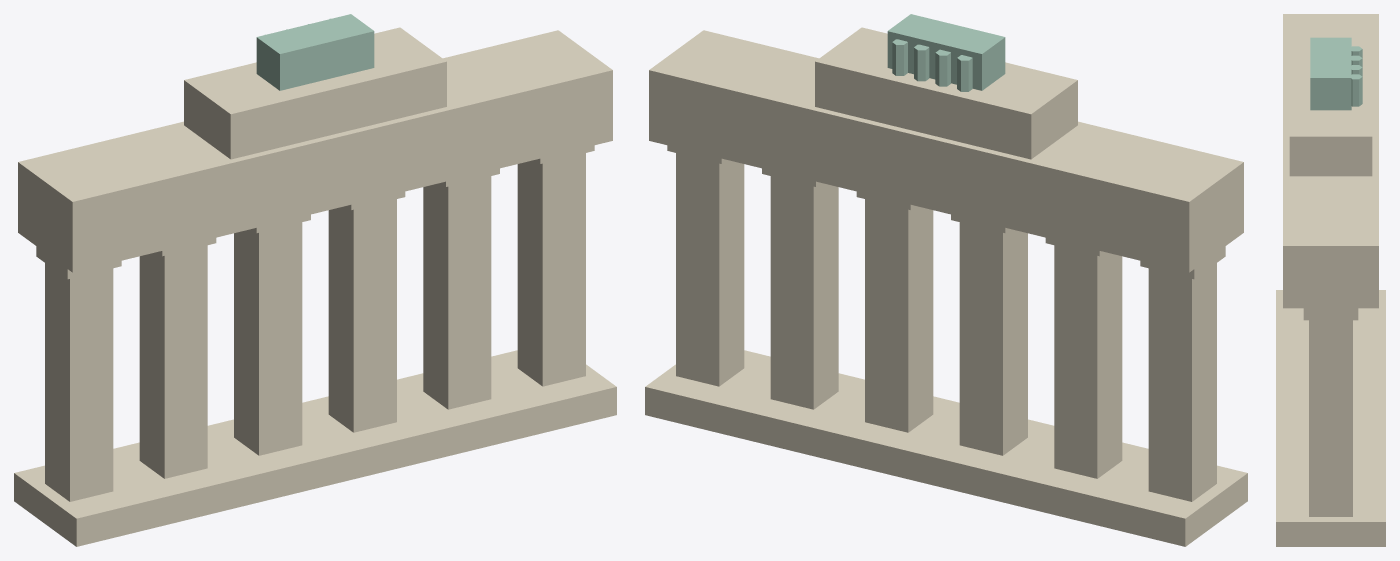
File: brandenburg.glb
3 views of the same model, side by side, from view 1: azimuth 30°, elevation 25°; view 2: azimuth 150°, elevation 25°; view 3: azimuth 270°, elevation 25° (orthographic). The views are drawn at different scales.
Visible parts, largest first — view 1: bg_att, bg_base, bg_att2, bg_c0, bg_c2, bg_c4, bg_c1, bg_c3, bg_c5, bg_quad; view 2: bg_att, bg_base, bg_att2, bg_c0, bg_c2, bg_c4, bg_c1, bg_c3, bg_c5, bg_quad; view 3: bg_att, bg_base, bg_c5, bg_att2, bg_quad, bg_cap5, bg_h3.
Boxes of the visible parts, x1,y1,x2,y2 form: bg_att: (18,30,612,272); bg_base: (14,350,616,546); bg_att2: (184,27,446,159); bg_c0: (45,263,113,501); bg_c2: (234,222,302,455); bg_c4: (423,176,491,409); bg_c1: (139,245,207,478); bg_c3: (328,199,396,432); bg_c5: (517,153,585,386); bg_quad: (256,14,374,90); bg_att: (649,30,1243,272); bg_base: (645,350,1247,546); bg_att2: (815,27,1077,159); bg_c0: (1148,263,1216,501); bg_c2: (959,222,1027,455); bg_c4: (770,176,838,409); bg_c1: (1054,245,1122,478); bg_c3: (865,199,933,432); bg_c5: (676,153,744,386); bg_quad: (887,14,1005,90); bg_att: (1283,14,1378,308); bg_base: (1276,290,1385,546); bg_c5: (1309,320,1352,516); bg_att2: (1289,43,1372,176); bg_quad: (1310,37,1351,110); bg_cap5: (1303,308,1358,320); bg_h3: (1351,74,1362,106).
Size of the model in its own units: 40 by 30 by 8.
